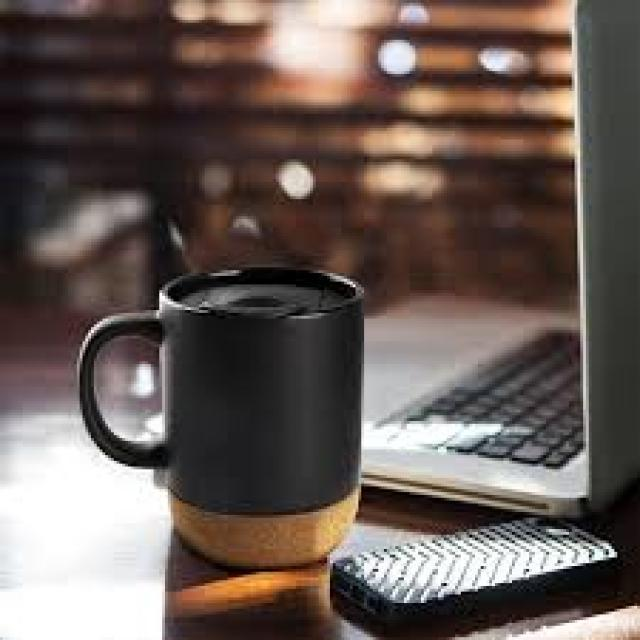taza: (72, 254, 384, 572)
